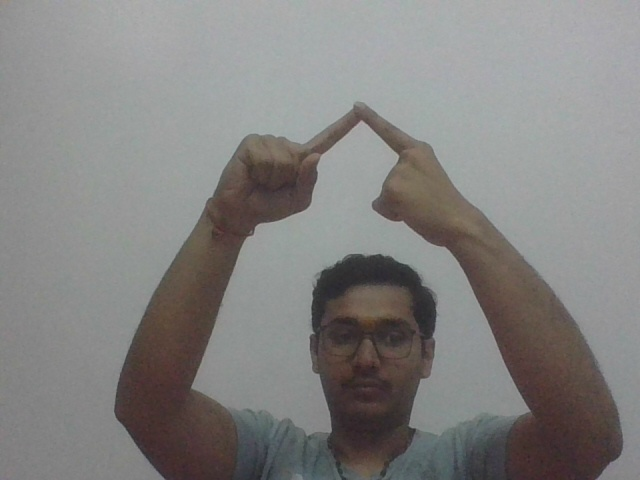E: (238, 103, 465, 230)
